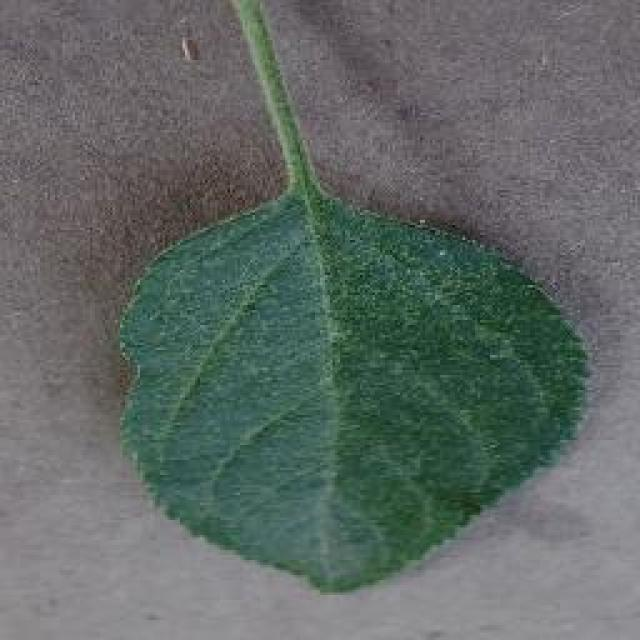apple healthy: (110, 0, 595, 595)
